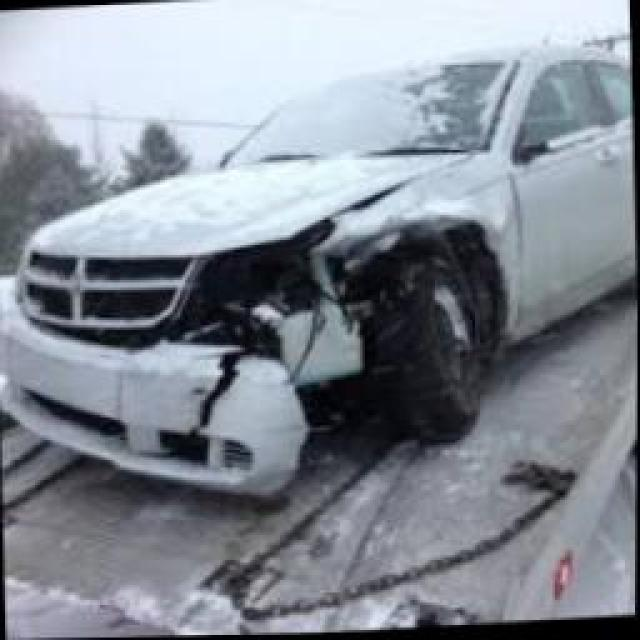Bumper: (1, 308, 349, 494)
Fender: (306, 160, 532, 299)
